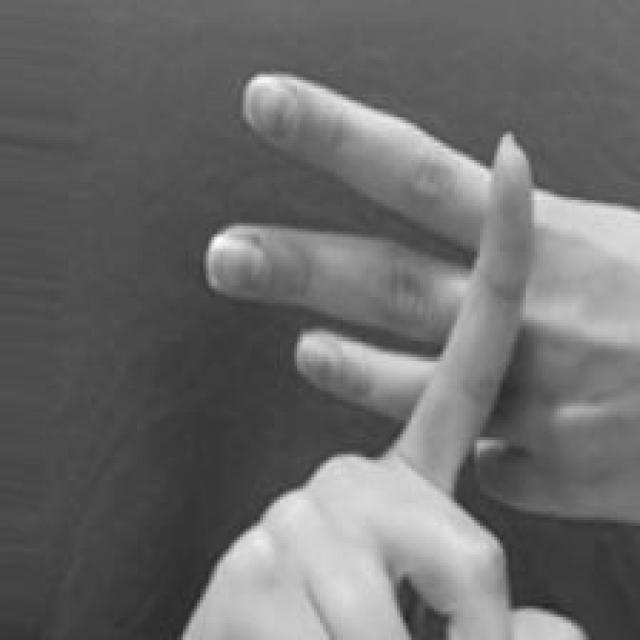E: (201, 71, 640, 640)
